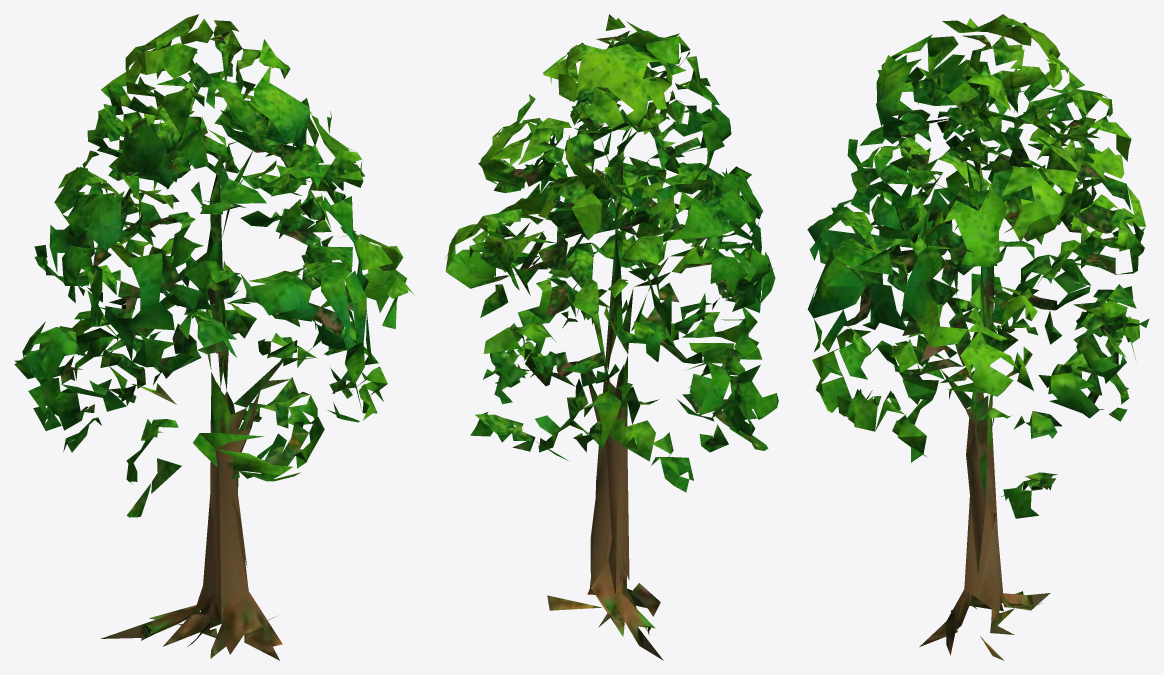
File: getkong-tree1.glb
3 views of the same model, side by side, from view 1: azimuth 30°, elevation 25°; view 2: azimuth 150°, elevation 25°; view 3: azimuth 270°, elevation 25° (orthographic). The views are drawn at different scales.
Parts seen in each view (by area): view 1: output_unwrapped; view 2: output_unwrapped; view 3: output_unwrapped.
Boxes of the visible parts, box(x1,y1,x2,y2) form: output_unwrapped: box(14, 14, 414, 660); output_unwrapped: box(445, 14, 778, 660); output_unwrapped: box(807, 14, 1149, 660).
Size of the model in its own units: 1.07 by 1.84 by 0.9476.
Materials: 1 (1 with a texture image).
